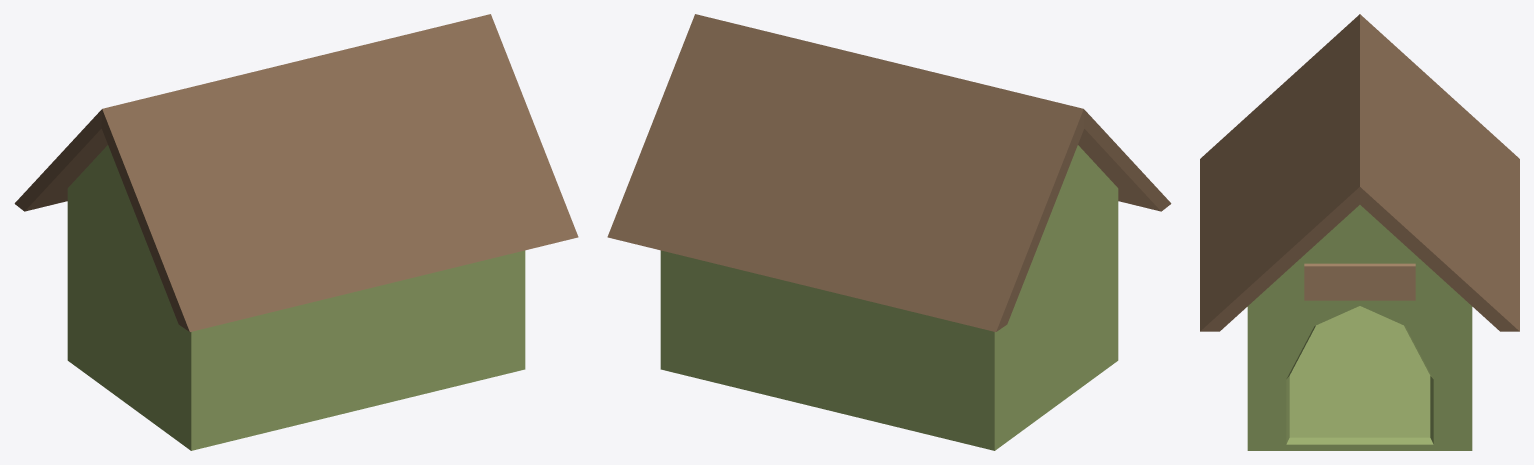
Rendered from O_Environment_DogHouse.fbx.
3 renders of one model, left to right at view 1: azimuth 30°, elevation 25°; view 2: azimuth 150°, elevation 25°; view 3: azimuth 270°, elevation 25°, orthographic. The views are drawn at different scales.
Parts seen in each view (by area): view 1: pCube6; view 2: pCube6; view 3: pCube6.
Boxes of the visible parts, x1,y1,x2,y2 form: pCube6: (14, 14, 578, 450); pCube6: (607, 14, 1171, 450); pCube6: (1200, 14, 1519, 450).
Size of the model in its own units: 3.67 by 2.74 by 2.87.
